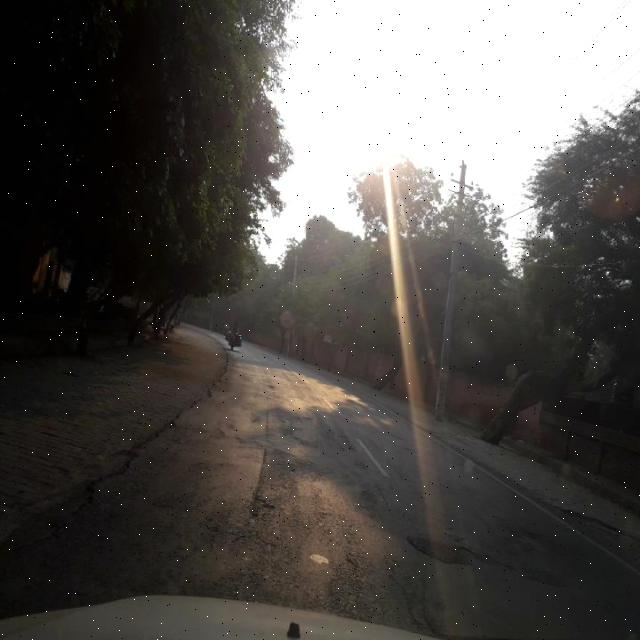D00: (85, 359, 222, 492)
